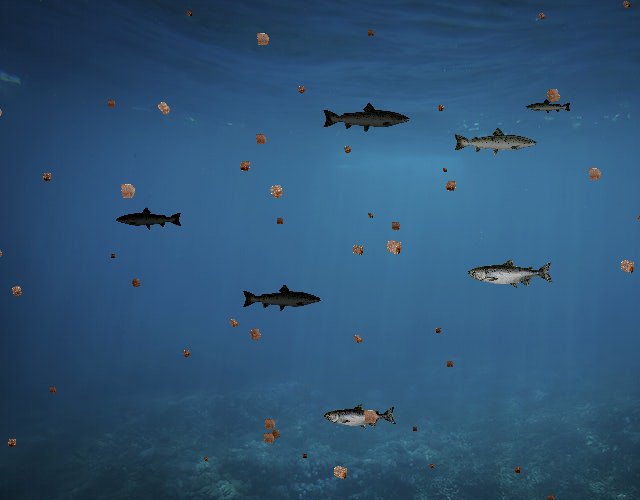Fish: (321, 102, 411, 134), (452, 126, 538, 157), (468, 258, 554, 289), (241, 283, 322, 312), (325, 404, 398, 430), (115, 207, 183, 231), (526, 98, 573, 115)
Pellet: (112, 176, 142, 206), (249, 26, 276, 53), (5, 280, 28, 302), (233, 155, 256, 177), (348, 330, 367, 349), (386, 217, 404, 235), (363, 26, 378, 40), (510, 463, 524, 477), (432, 324, 445, 337), (183, 7, 196, 20), (200, 454, 210, 464)
